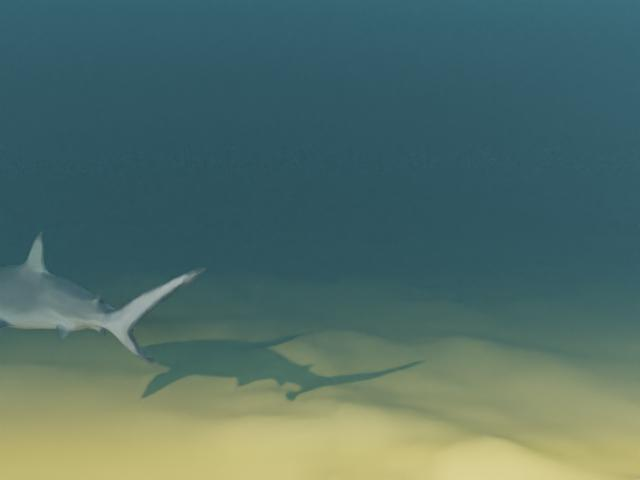Carribean Shark.001: (0, 231, 205, 364)
